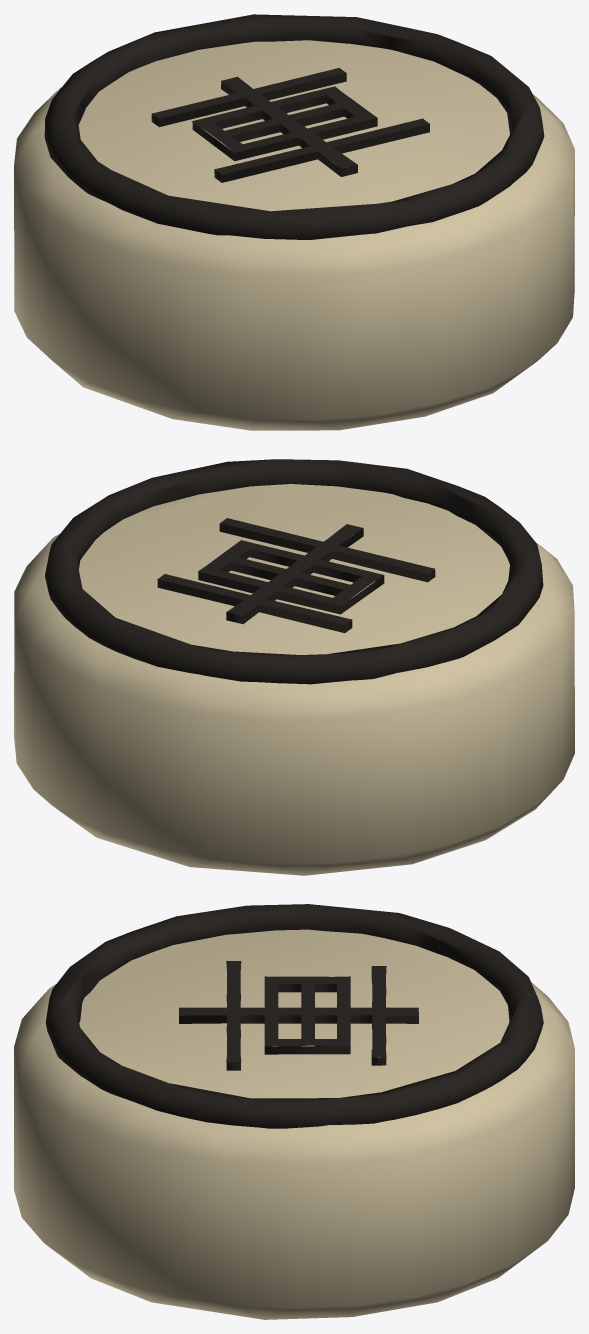
Rendered from quan_den_xe.glb.
3 renders of one model, top to bottom at view 1: azimuth 30°, elevation 25°; view 2: azimuth 150°, elevation 25°; view 3: azimuth 270°, elevation 25°, orthographic.
Visible parts, largest first — view 1: quan_den_xe; view 2: quan_den_xe; view 3: quan_den_xe.
Part boxes in pixels (left/top/right/bottom): quan_den_xe: left=14, top=14, right=574, bottom=430; quan_den_xe: left=14, top=459, right=574, bottom=875; quan_den_xe: left=14, top=904, right=574, bottom=1319.
Size of the model in its own units: 0.0367 by 0.0153 by 0.0367.
